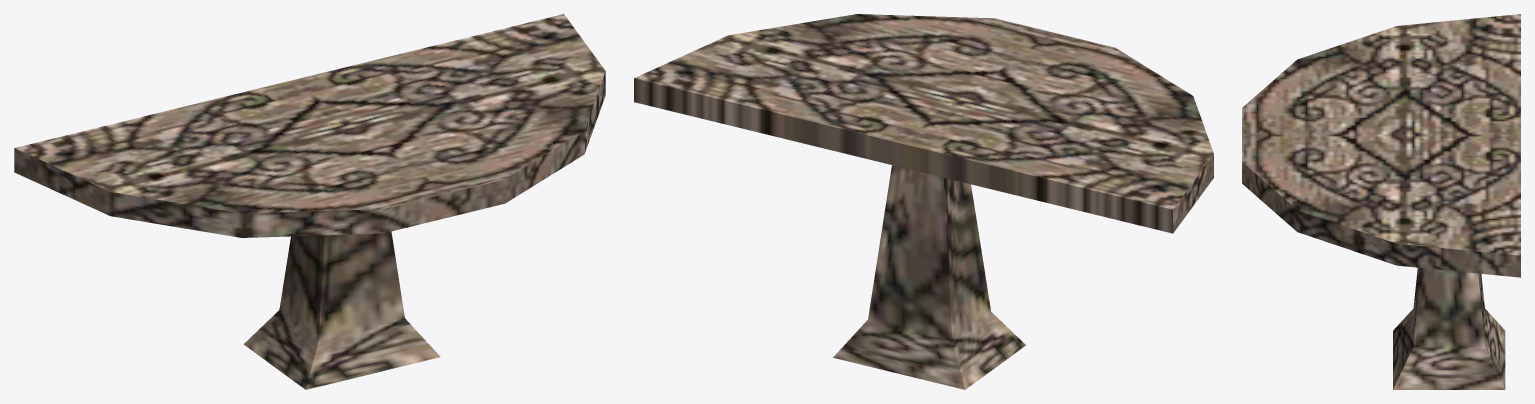
3 renders of one model, left to right at view 1: azimuth 30°, elevation 25°; view 2: azimuth 150°, elevation 25°; view 3: azimuth 270°, elevation 25°, orthographic. The views are drawn at different scales.
Parts seen in each view (by area): view 1: Furniture04; view 2: Furniture04; view 3: Furniture04.
Part boxes in pixels (<box>): Furniture04: <box>14,14,605,389</box>; Furniture04: <box>634,14,1213,389</box>; Furniture04: <box>1242,14,1520,389</box>.
Size of the model in its own units: 204 by 86.33 by 99.29.
